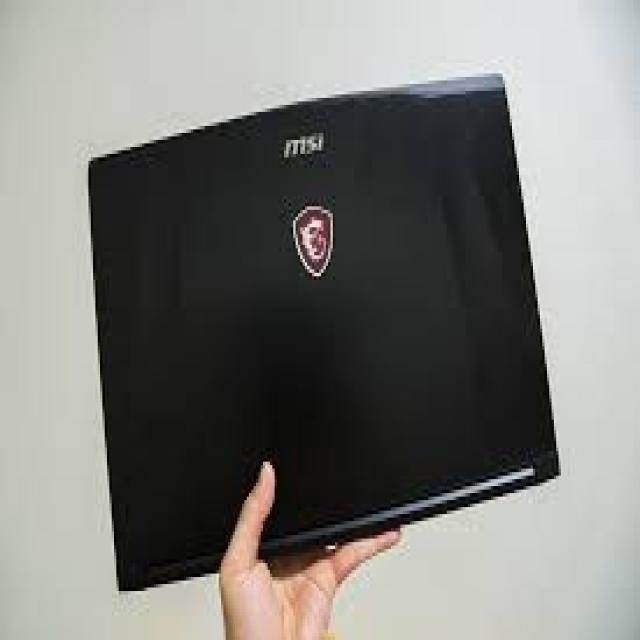laptop: (86, 70, 561, 591)
